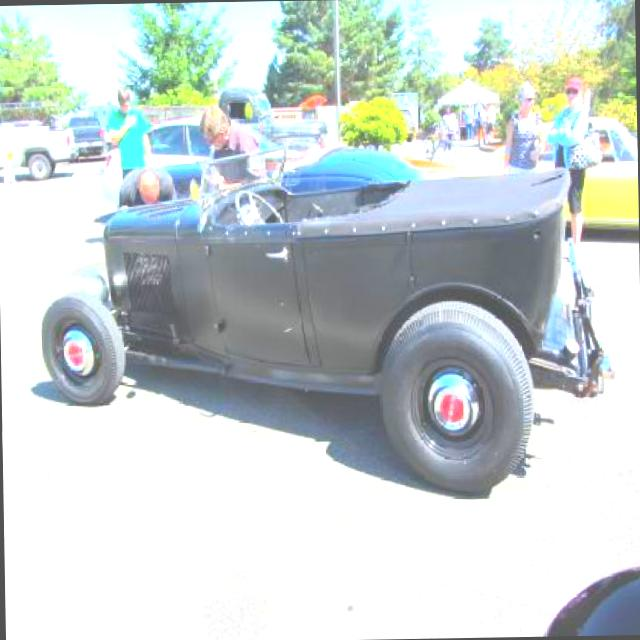Person: (546, 74, 598, 262), (198, 101, 270, 196), (501, 82, 546, 174), (108, 84, 151, 178), (116, 163, 176, 209), (442, 100, 461, 158), (470, 94, 486, 142), (463, 105, 473, 139), (484, 97, 492, 134)
